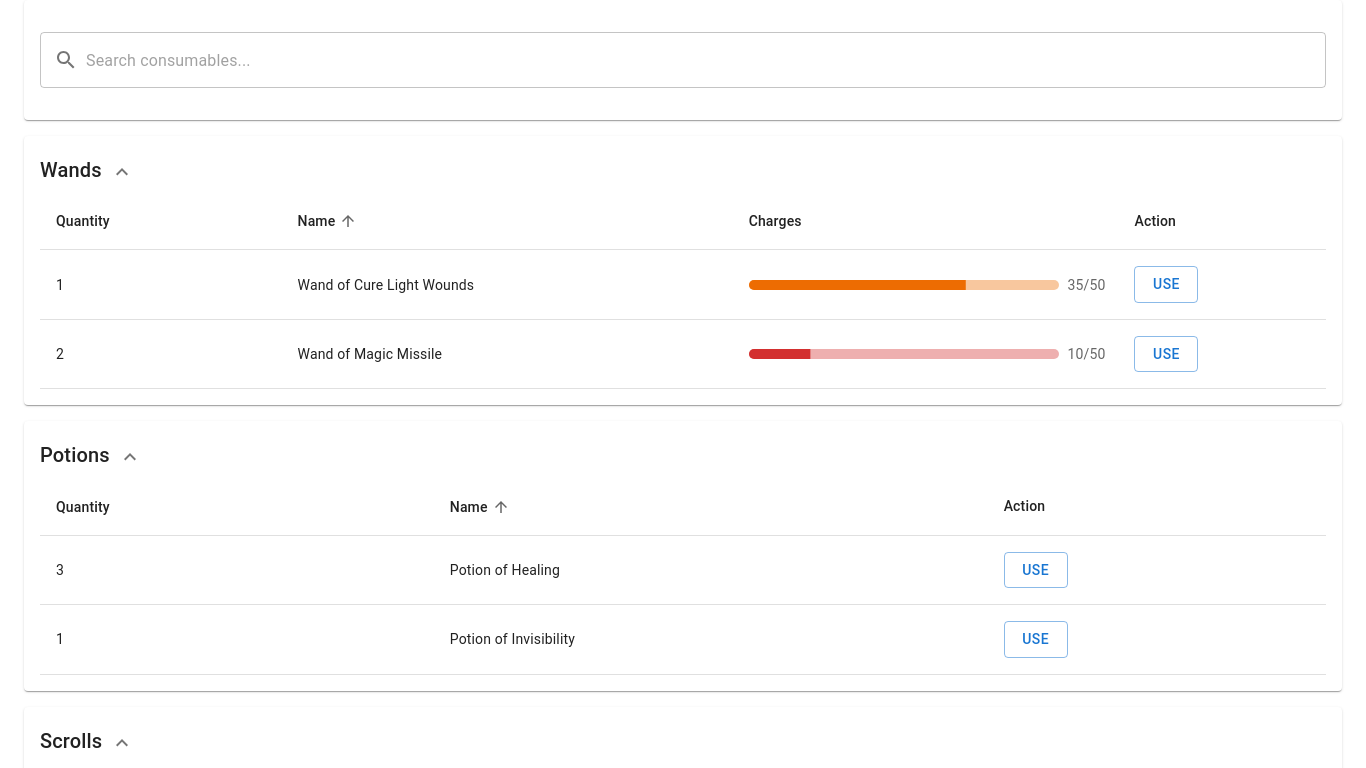
Test: Consumables › filters consumables based on search query
Check: the text "Wand of Cure Light Wounds" is shown, box [282,250,733,319]
Type "Fireball" into the field with placeholder "Search consumables...". click: point(706, 60)
box: [86,32,1326,88]
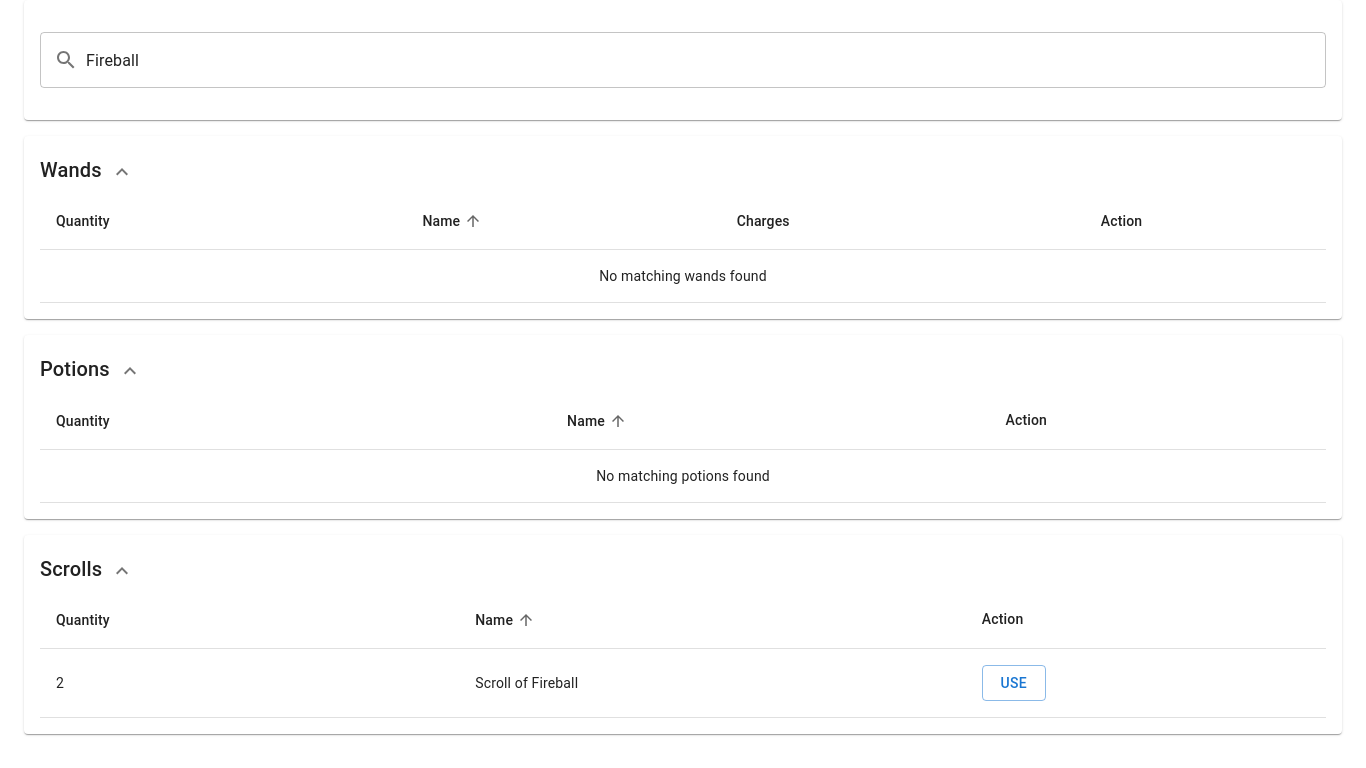
Check: the text "Scroll of Fireball" is shown, box [459,648,966,718]
Check: the text "Wand of Cure Light Wounds" is gone
Check: the text "Potion of Healing" is gone
